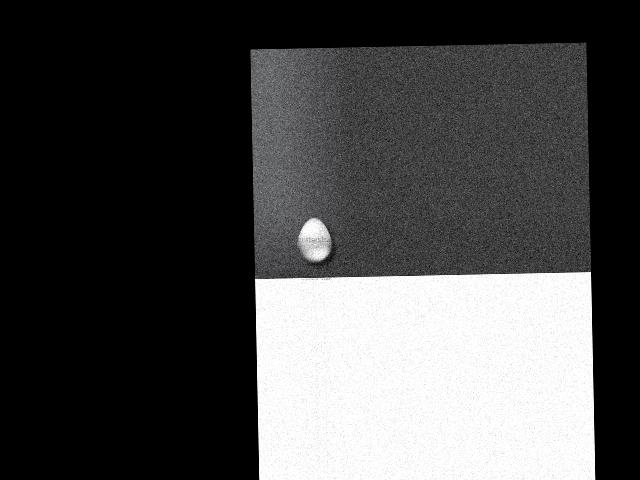egg: (296, 217, 332, 262)
